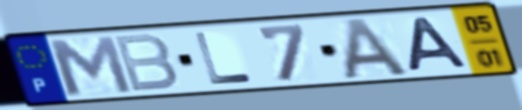7: (255, 21, 310, 84)
A: (342, 16, 414, 82), (406, 15, 472, 74)
B: (110, 32, 182, 95)
L: (192, 31, 258, 87)
M: (43, 33, 137, 98)
